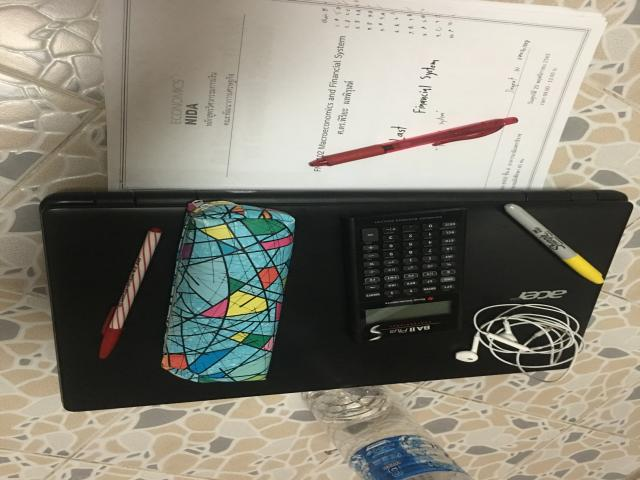Pen: (308, 117, 518, 167), (100, 227, 162, 358), (503, 203, 603, 284)
bottle: (303, 386, 472, 480)
paper: (102, 0, 605, 190)
wire: (455, 304, 585, 382)
